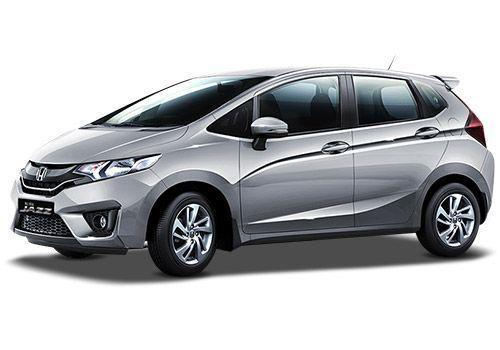Hatchback: (2, 57, 500, 277)
